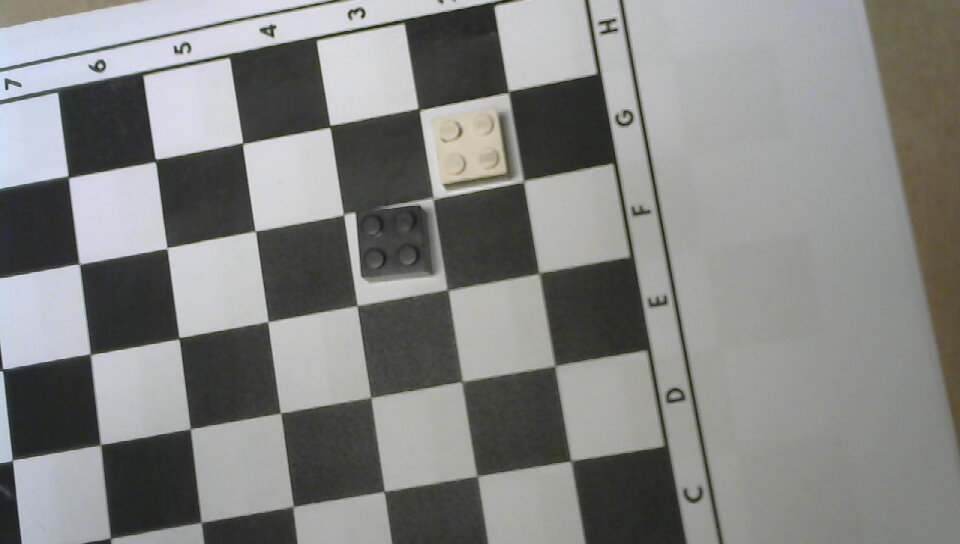wp: (427, 103, 515, 192)
